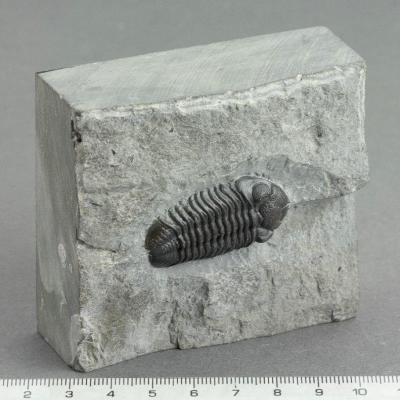natural_science_collection: (144, 175, 291, 270)
